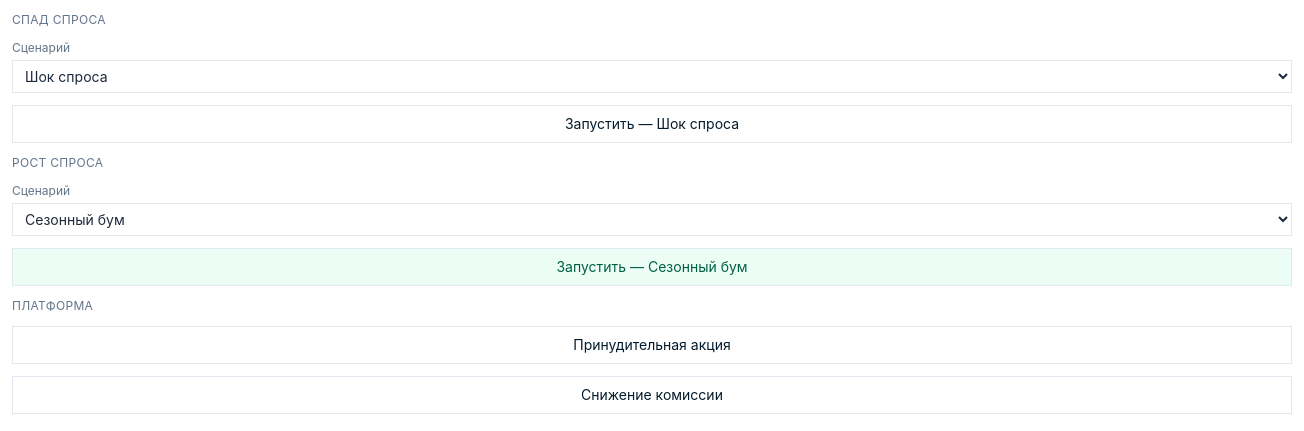
Test case: ShocksControlPanel › updates_boom_button_label_when_scenario_changes
Expected: the button with test id "trigger-boom-btn" reads "Запустить — Сезонный бум", x1=12 y1=248 x2=1292 y2=286
Select "Оживление" in the dropdown with test id "boom-scenario-select": (652, 220) x1=12 y1=203 x2=1292 y2=236
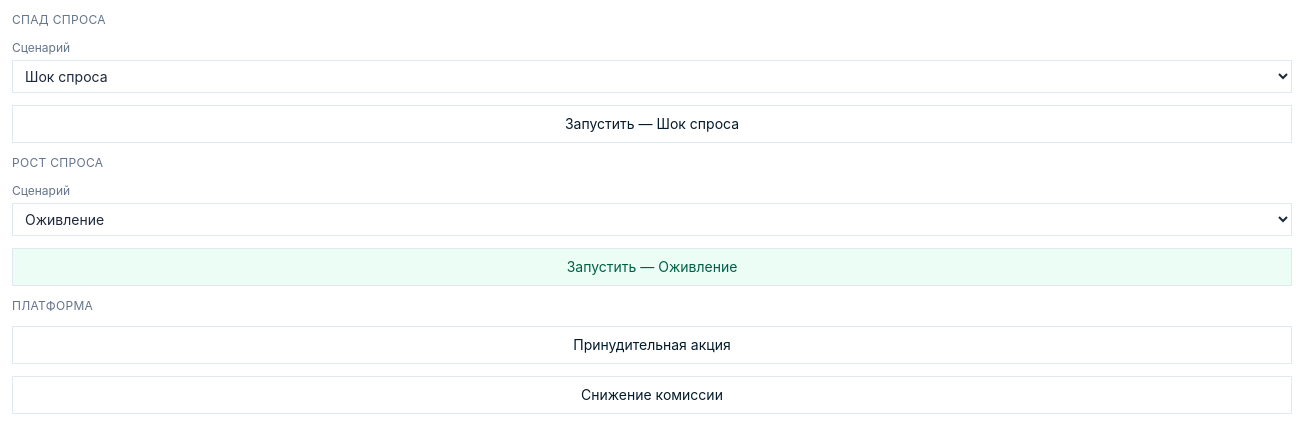
Now the button with test id "trigger-boom-btn" reads "Запустить — Оживление", box x1=12 y1=248 x2=1292 y2=286
Select "Ажиотаж" in the dropdown with test id "boom-scenario-select": (652, 220) x1=12 y1=203 x2=1292 y2=236
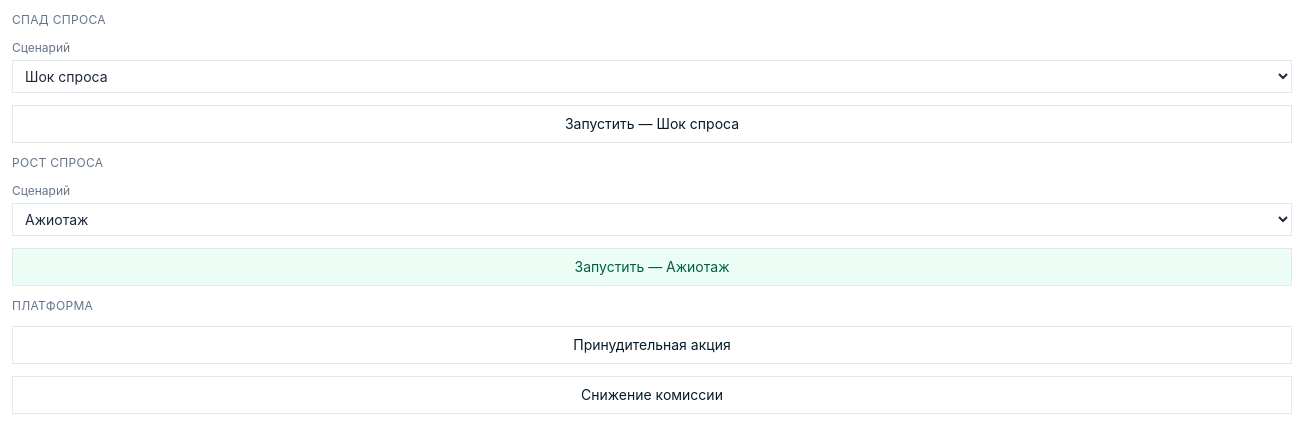
Now the button with test id "trigger-boom-btn" reads "Запустить — Ажиотаж", box x1=12 y1=248 x2=1292 y2=286
